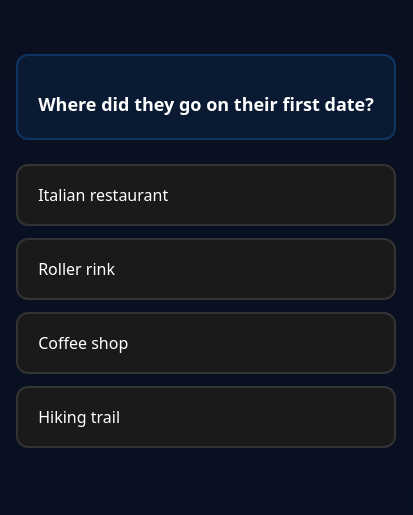
Test: GuestQuizLive › disables all options after voting
Click the button "Italian restaurant" at (103, 195), box [16, 164, 396, 226]
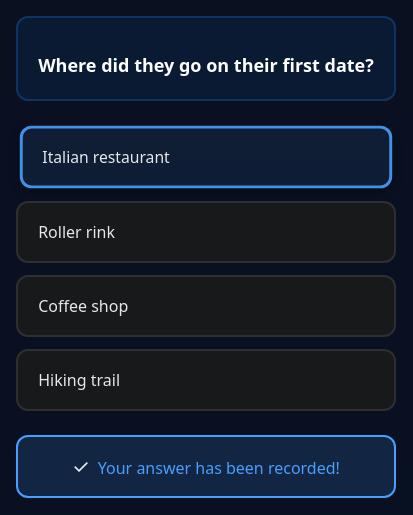
Expected: the button "Italian restaurant" is disabled, [20, 126, 392, 189]
Expected: the button "Roller rink" is disabled, [16, 202, 396, 264]
Expected: the button "Coffee shop" is disabled, [16, 276, 396, 338]
